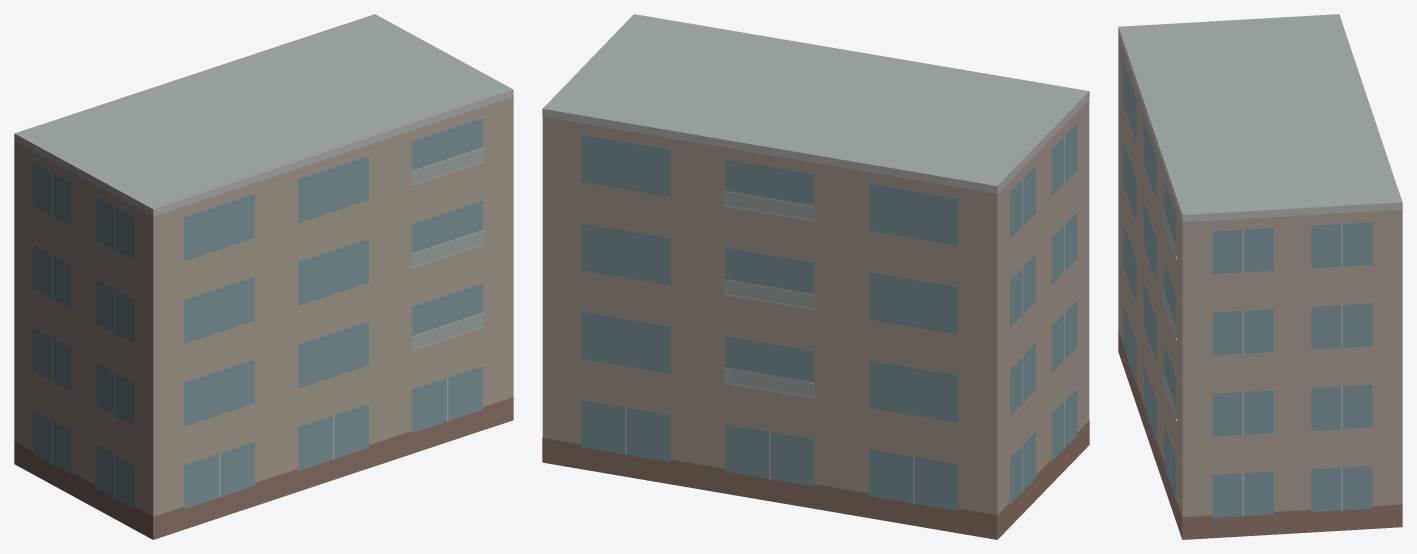
The model's file is survey-upis-32523833.glb.
3 views of the same model, side by side, from view 1: azimuth 30°, elevation 25°; view 2: azimuth 150°, elevation 25°; view 3: azimuth 270°, elevation 25° (orthographic). The views are drawn at different scales.
Parts seen in each view (by area): view 1: survey-upis-32523833.tmp; view 2: survey-upis-32523833.tmp; view 3: survey-upis-32523833.tmp.
Boxes of the visible parts, left/top/right/bottom form: survey-upis-32523833.tmp: left=14, top=14, right=513, bottom=539; survey-upis-32523833.tmp: left=542, top=14, right=1089, bottom=539; survey-upis-32523833.tmp: left=1118, top=14, right=1402, bottom=539.
Size of the model in its own units: 14.62 by 11 by 8.74.
